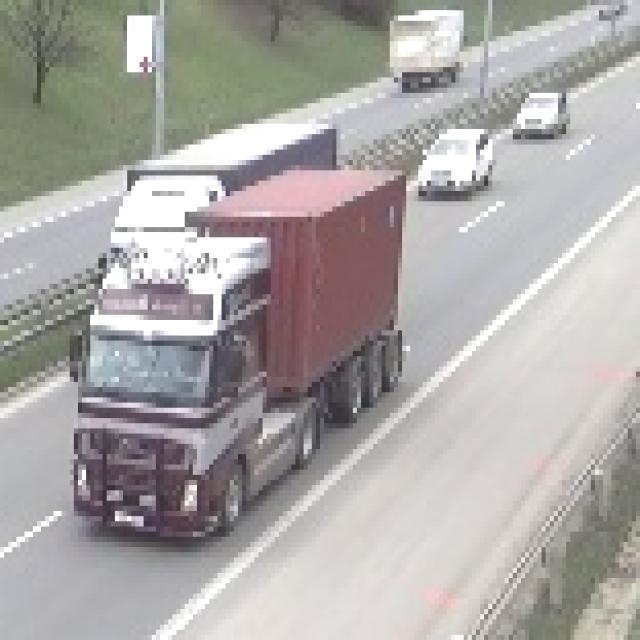SUV: (421, 125, 495, 201), (514, 90, 568, 140)
TRUCK: (53, 165, 402, 537), (390, 9, 470, 87)
